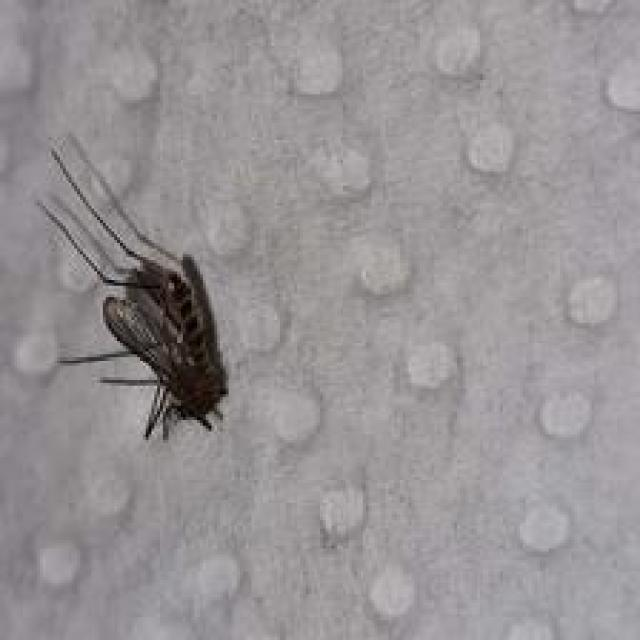Culex: (36, 130, 230, 441)
